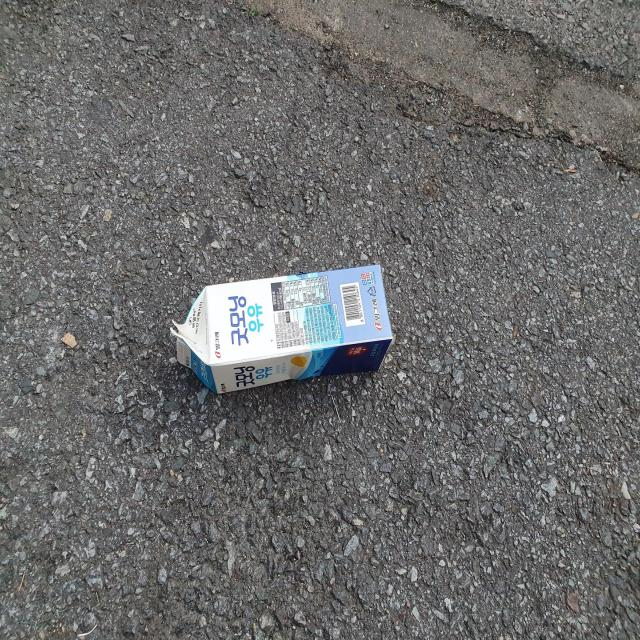paperpack: (170, 264, 393, 394)
